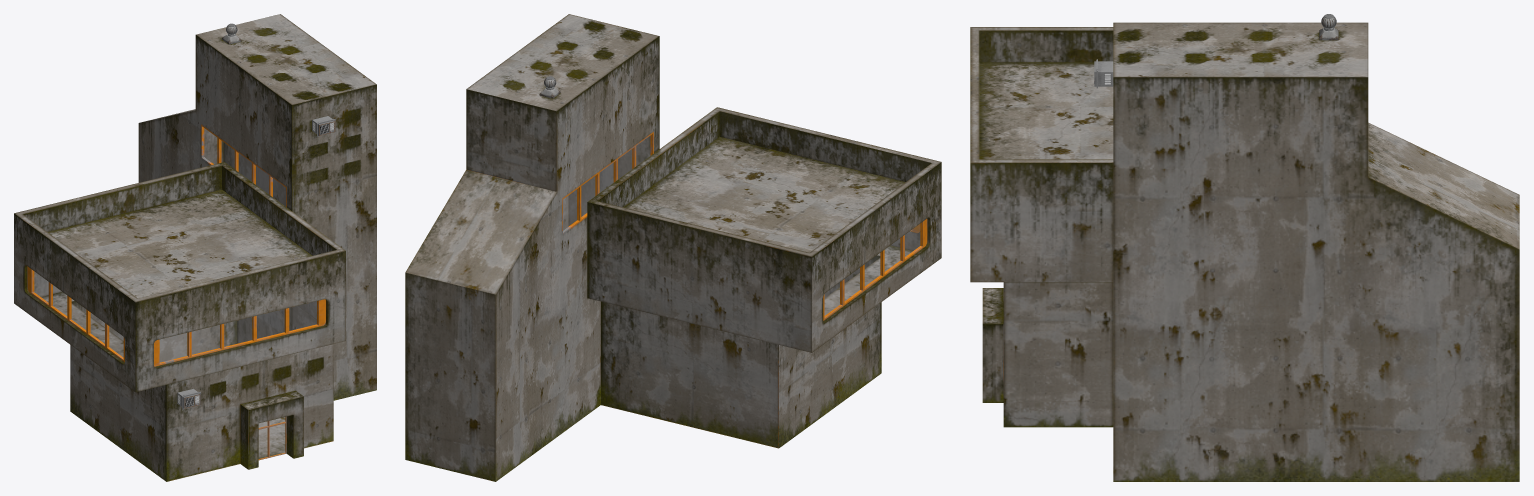
File: brutalist_building3.glb
3 views of the same model, side by side, from view 1: azimuth 30°, elevation 25°; view 2: azimuth 150°, elevation 25°; view 3: azimuth 270°, elevation 25° (orthographic). The views are drawn at different scales.
Visible parts, largest first — view 1: Cube_0, Cube.001_1, Wall-mounted air conditioner.001_2, Wall-mounted air conditioner.002_3; view 2: Cube_0, Cube.001_1; view 3: Cube_0.
Part boxes in pixels (x1,y1,x2,y2): Cube_0: [14, 14, 376, 481]; Cube.001_1: [34, 129, 316, 458]; Wall-mounted air conditioner.001_2: [177, 388, 200, 409]; Wall-mounted air conditioner.002_3: [312, 116, 335, 136]; Cube_0: [405, 14, 941, 481]; Cube.001_1: [563, 136, 919, 314]; Cube_0: [970, 22, 1519, 481].
Bounding box in the file's own units: 3.54 × 3.68 × 4.31.
5 materials, 4 textured.
